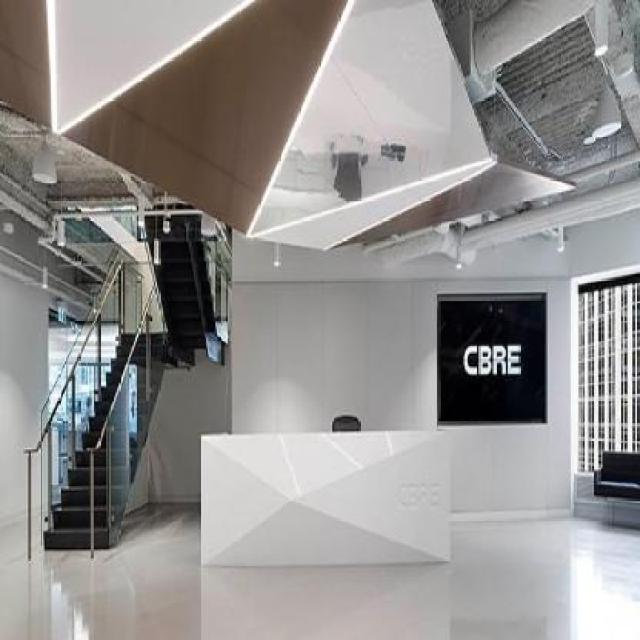frontdesk: (192, 418, 457, 577)
